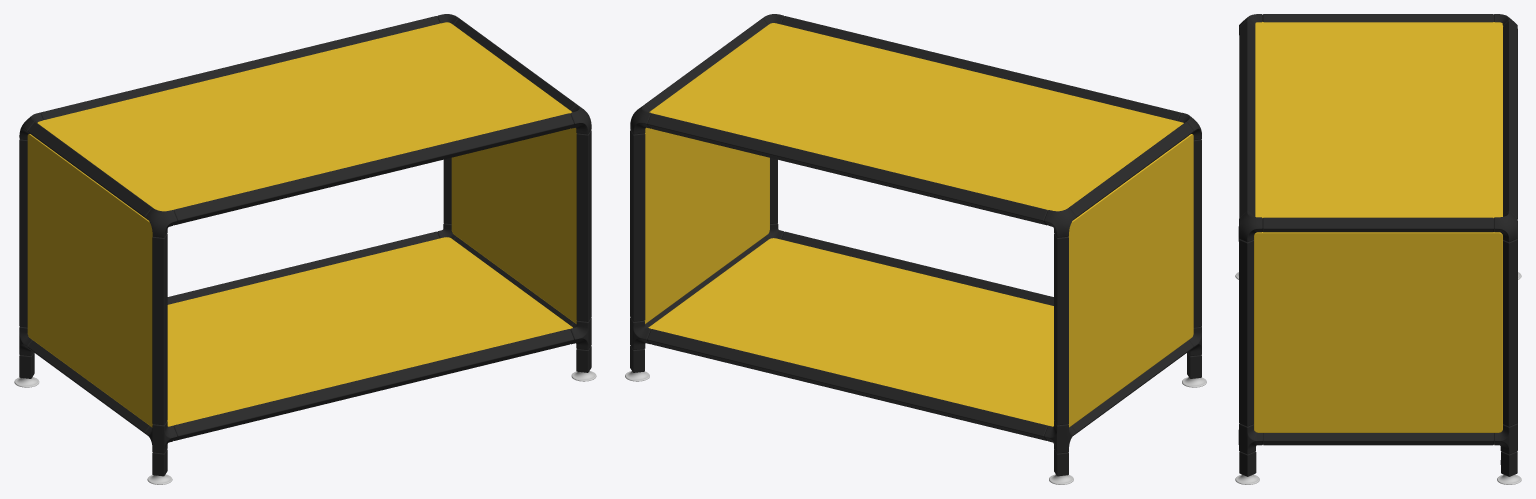
3 renders of one model, left to right at view 1: azimuth 30°, elevation 25°; view 2: azimuth 150°, elevation 25°; view 3: azimuth 270°, elevation 25°, orthographic.
Parts seen in each view (by area): view 1: 729x374x329; view 2: 729x374x329; view 3: 729x374x329.
Boxes of the visible parts, left/top/right/bottom form: 729x374x329: left=14, top=14, right=596, bottom=484; 729x374x329: left=625, top=14, right=1206, bottom=484; 729x374x329: left=1235, top=14, right=1521, bottom=484.
Size of the model in its own units: 0.8189 by 0.4683 by 0.4632.
